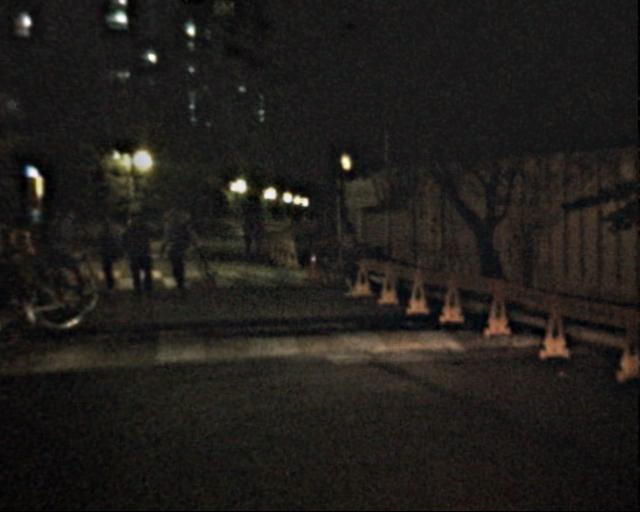person: (48, 208, 83, 294), (124, 212, 158, 294), (333, 219, 365, 298), (94, 210, 126, 287), (164, 215, 194, 289), (157, 206, 176, 253), (178, 209, 196, 252), (238, 214, 254, 254), (249, 213, 265, 251)
